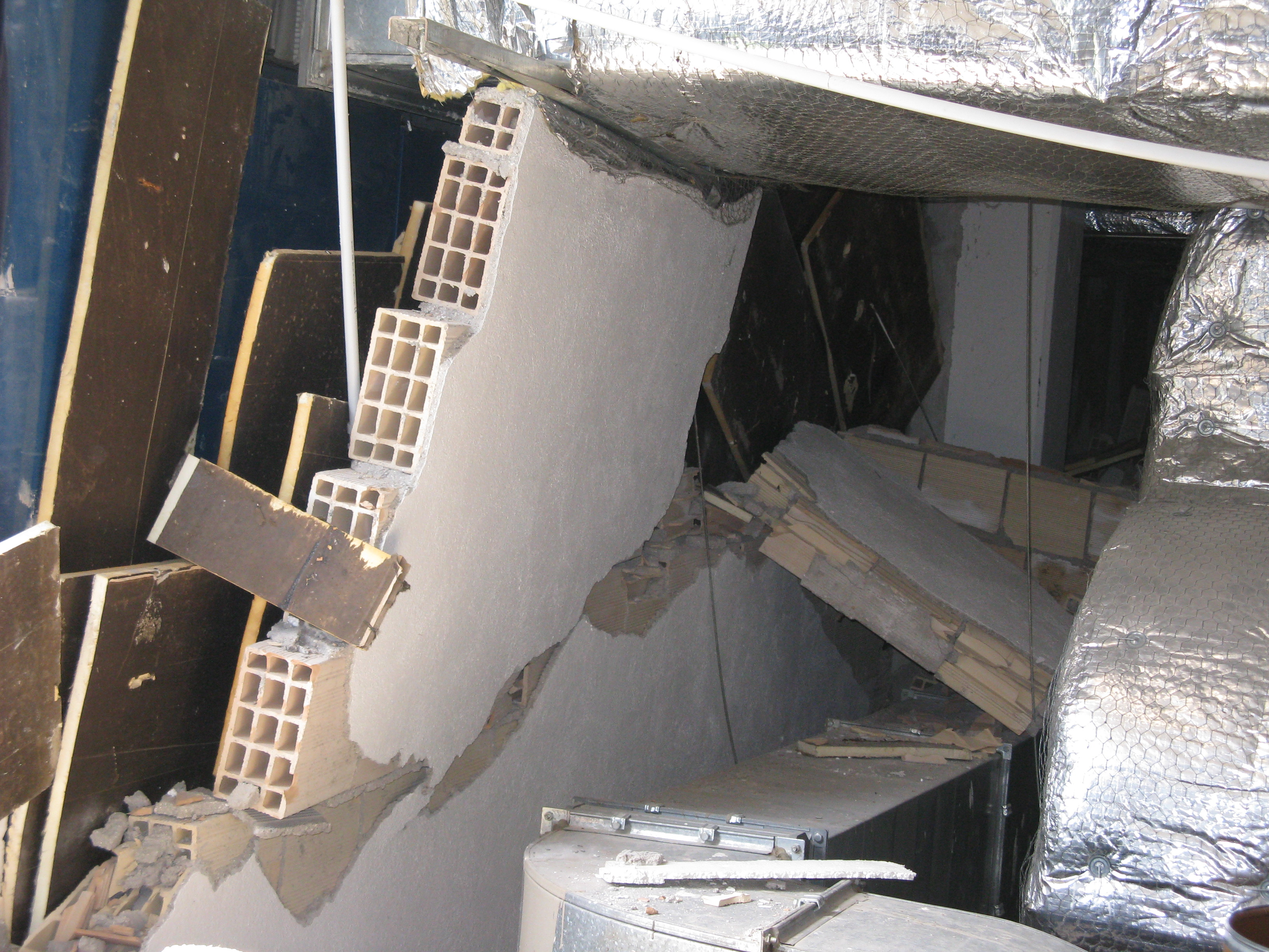Other damage/mechanism: (111, 65, 965, 948)
